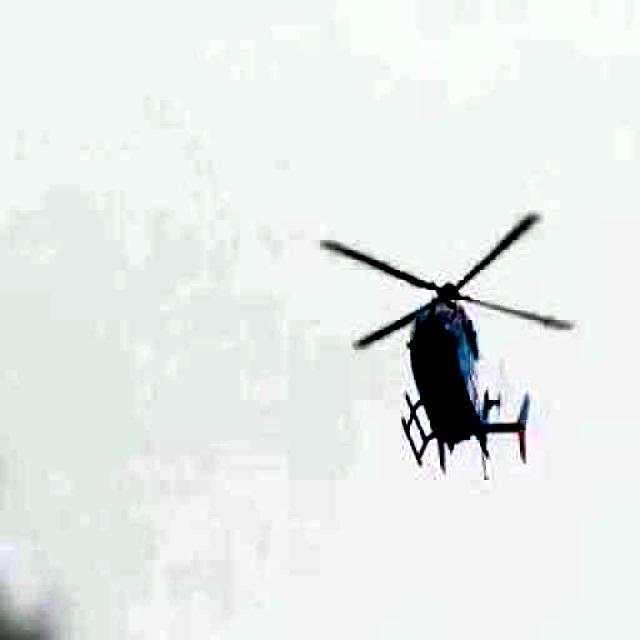drone: (298, 184, 599, 510)
